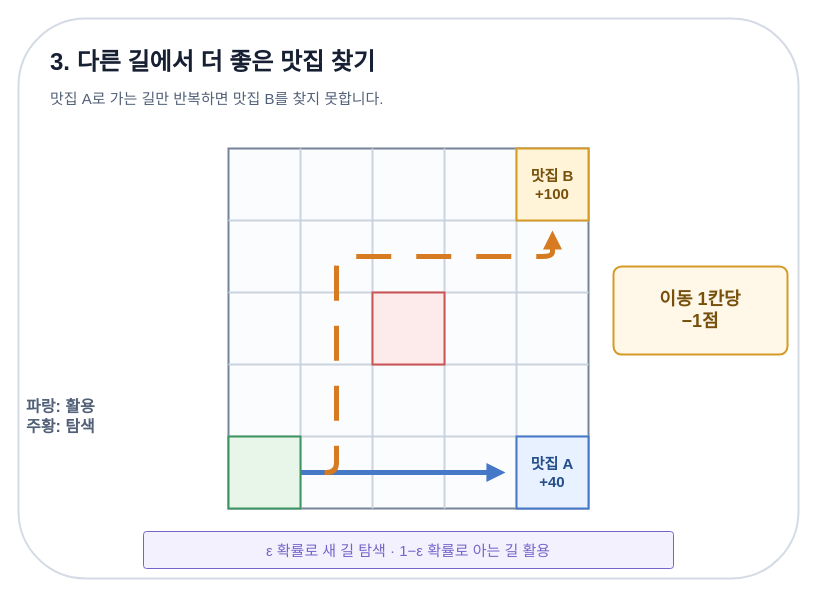
Image size: 816x596. Some labels were removed from this diagram. Here are the shapes that lost their labels. From the top down, the box of each, then its label:
(371, 291, 445, 365): 공사 구간 −20
(227, 435, 301, 509): 에이전트 출발
